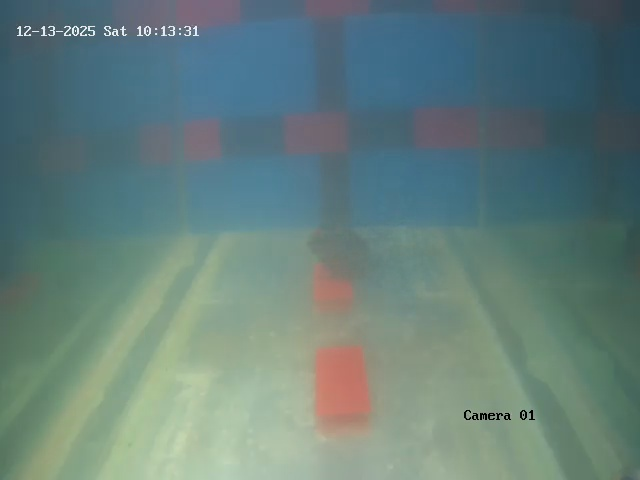fish: (300, 227, 383, 276)
